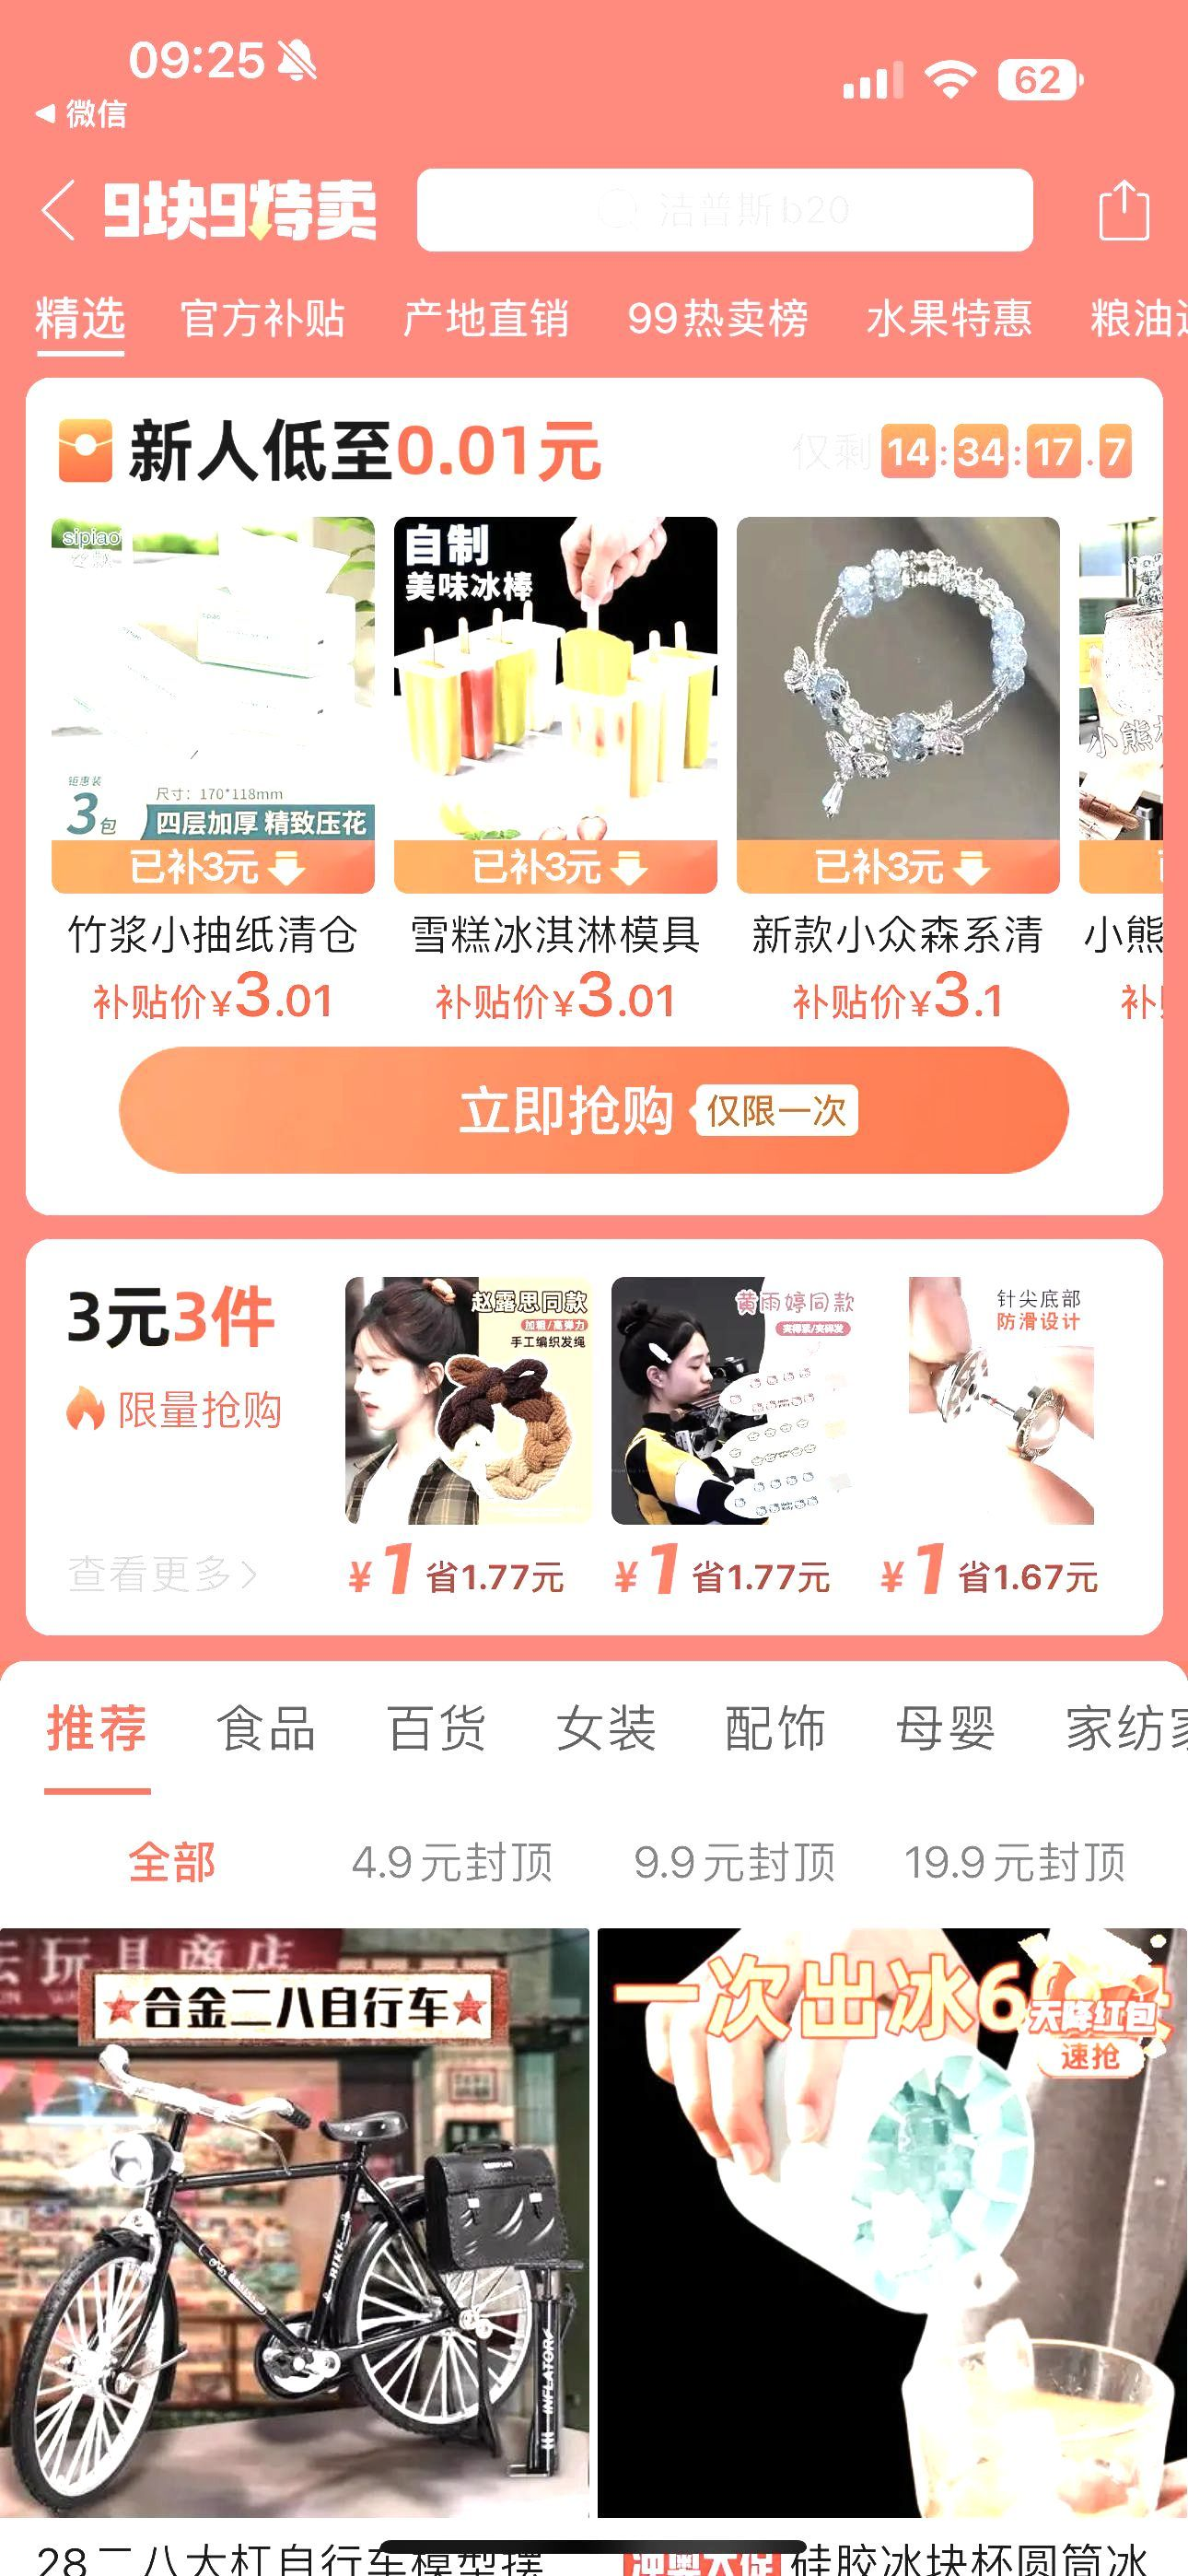item: (596, 1902, 1188, 2576), (13, 1911, 590, 2576)
op_bar: (10, 153, 1185, 276)
seckill: (13, 370, 1181, 1222), (13, 1237, 1183, 1648)
